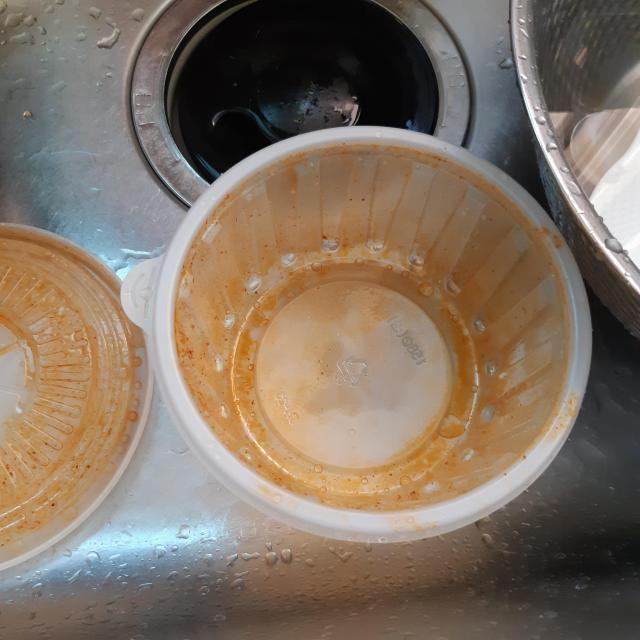disposable: (107, 121, 610, 547)
